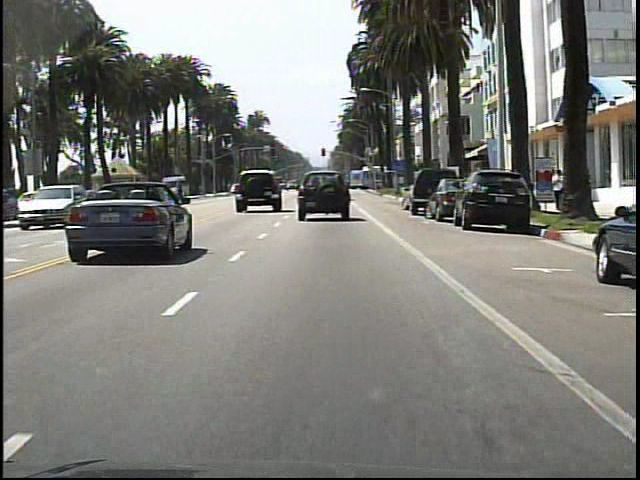person: (547, 165, 564, 214)
